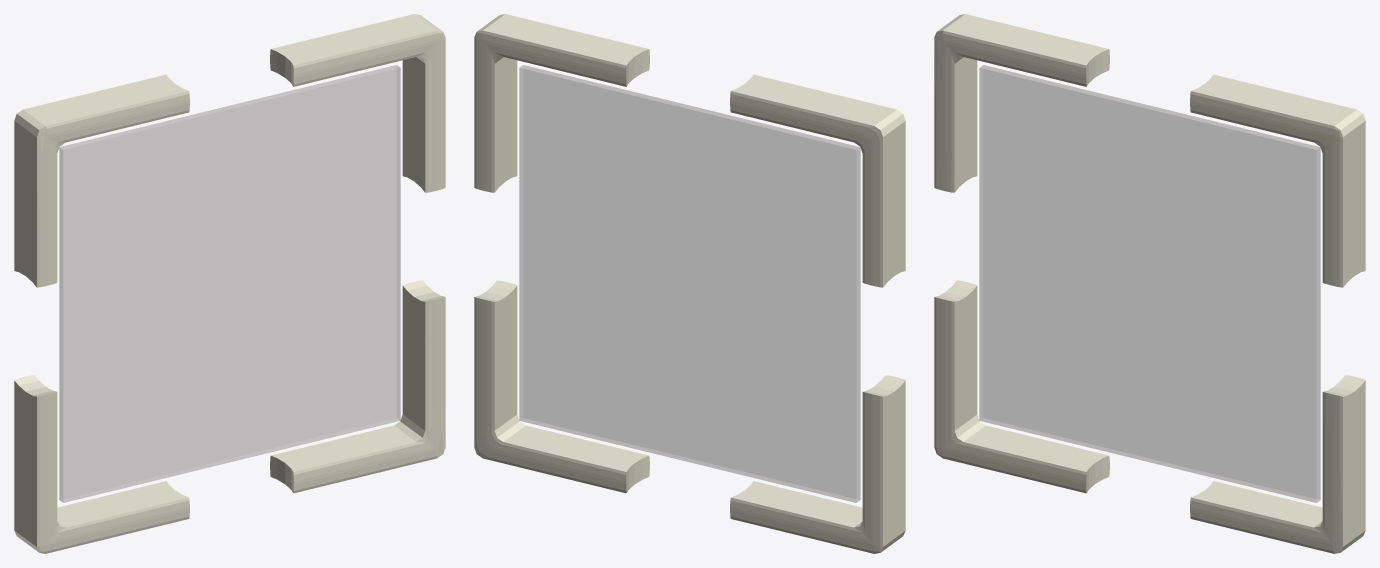
The model's file is mirrorUserFix.gltf.
3 views of the same model, side by side, from view 1: azimuth 30°, elevation 25°; view 2: azimuth 150°, elevation 25°; view 3: azimuth 330°, elevation 25° (orthographic).
Parts seen in each view (by area): view 1: Cube.032, Cube.031; view 2: Cube.032, Cube.031; view 3: Cube.032, Cube.031.
Boxes of the visible parts, left/top/right/bottom form: Cube.032: left=59, top=65, right=400, bottom=502; Cube.031: left=14, top=14, right=445, bottom=553; Cube.032: left=519, top=65, right=860, bottom=502; Cube.031: left=474, top=14, right=905, bottom=553; Cube.032: left=979, top=65, right=1320, bottom=502; Cube.031: left=934, top=14, right=1365, bottom=553.
Size of what is drawn, in the model's own units: 2 by 2 by 0.2.
